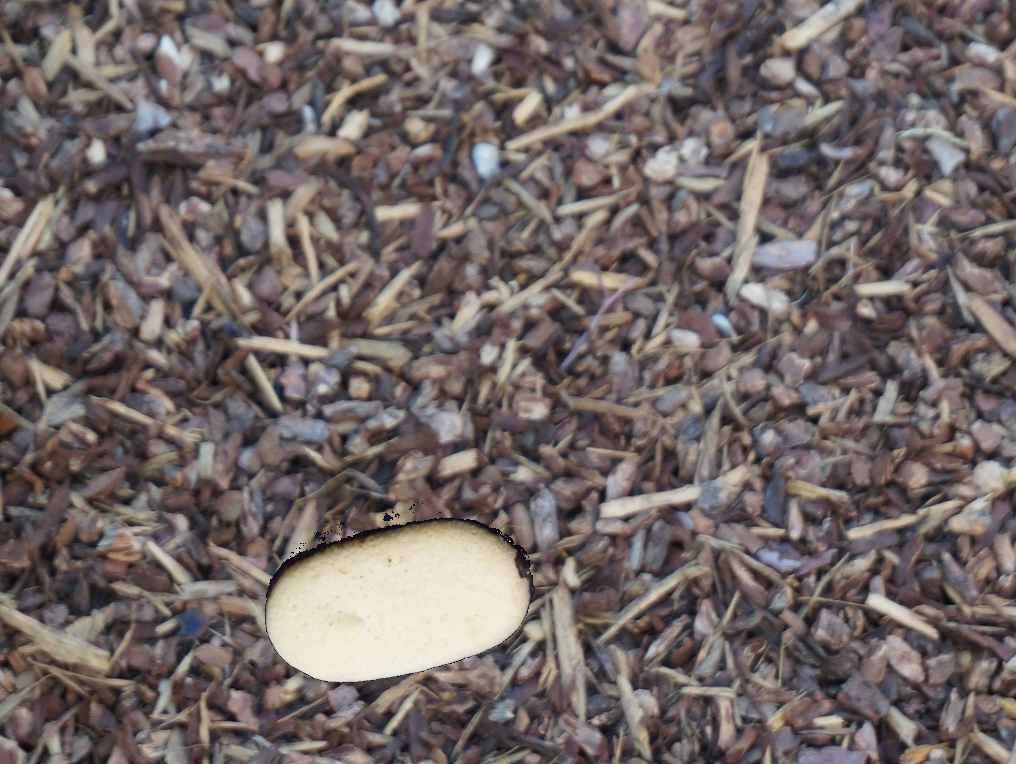test: (235, 430, 564, 754)
